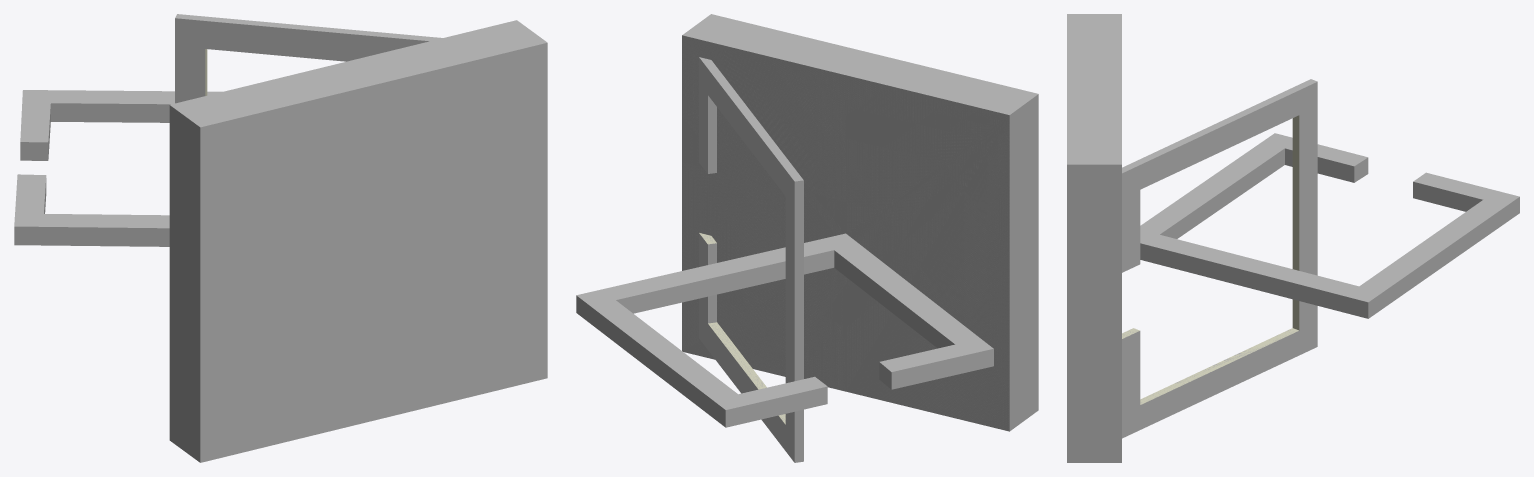
File: carre.dae
3 renders of one model, left to right at view 1: azimuth 30°, elevation 25°; view 2: azimuth 150°, elevation 25°; view 3: azimuth 270°, elevation 25°, orthographic. The views are drawn at different scales.
Visible parts, largest first — view 1: SketchUp (×3); view 2: SketchUp (×5); view 3: SketchUp (×5).
Part boxes in pixels (x1,y1,x2,y2): SketchUp (×3): (14,14,547,462); SketchUp (×5): (576,14,1038,462); SketchUp (×5): (1067,14,1519,462).
Bounding box in the file's own units: 46.78 × 49.53 × 36.
